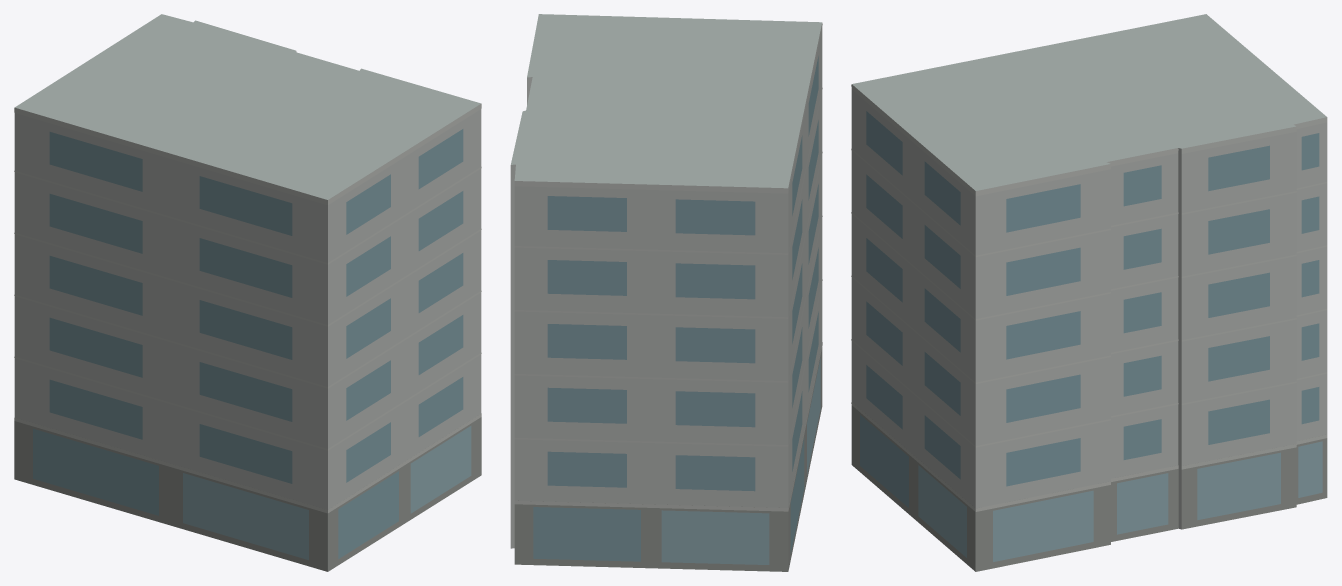
Rendered from survey-upis-32747446.glb.
The picture shows the model from 3 angles, left to right: view 1: azimuth 30°, elevation 25°; view 2: azimuth 150°, elevation 25°; view 3: azimuth 270°, elevation 25°; orthographic projection. The views are drawn at different scales.
Parts seen in each view (by area): view 1: survey-upis-32747446.tmp; view 2: survey-upis-32747446.tmp; view 3: survey-upis-32747446.tmp.
Part boxes in pixels (<box>): survey-upis-32747446.tmp: <box>14,14,481,571</box>; survey-upis-32747446.tmp: <box>510,14,822,571</box>; survey-upis-32747446.tmp: <box>851,14,1327,571</box>.
Bounding box in the file's own units: 17.38 × 17.4 × 19.72.
